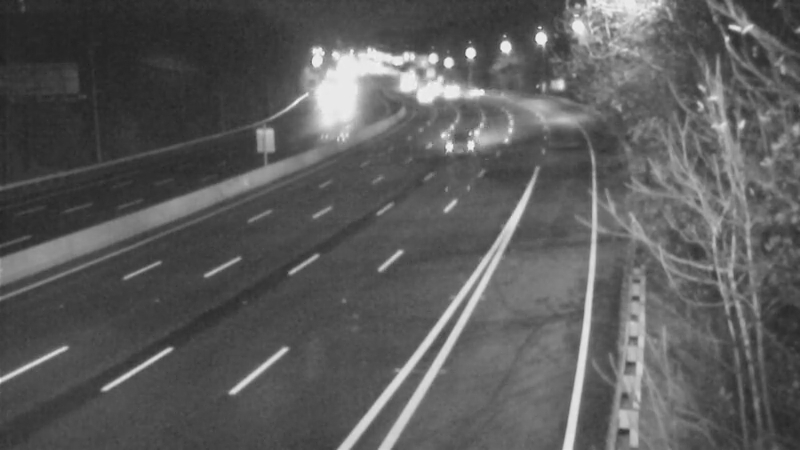vehicle: (396, 68, 446, 118), (447, 66, 497, 116), (437, 118, 487, 168)
